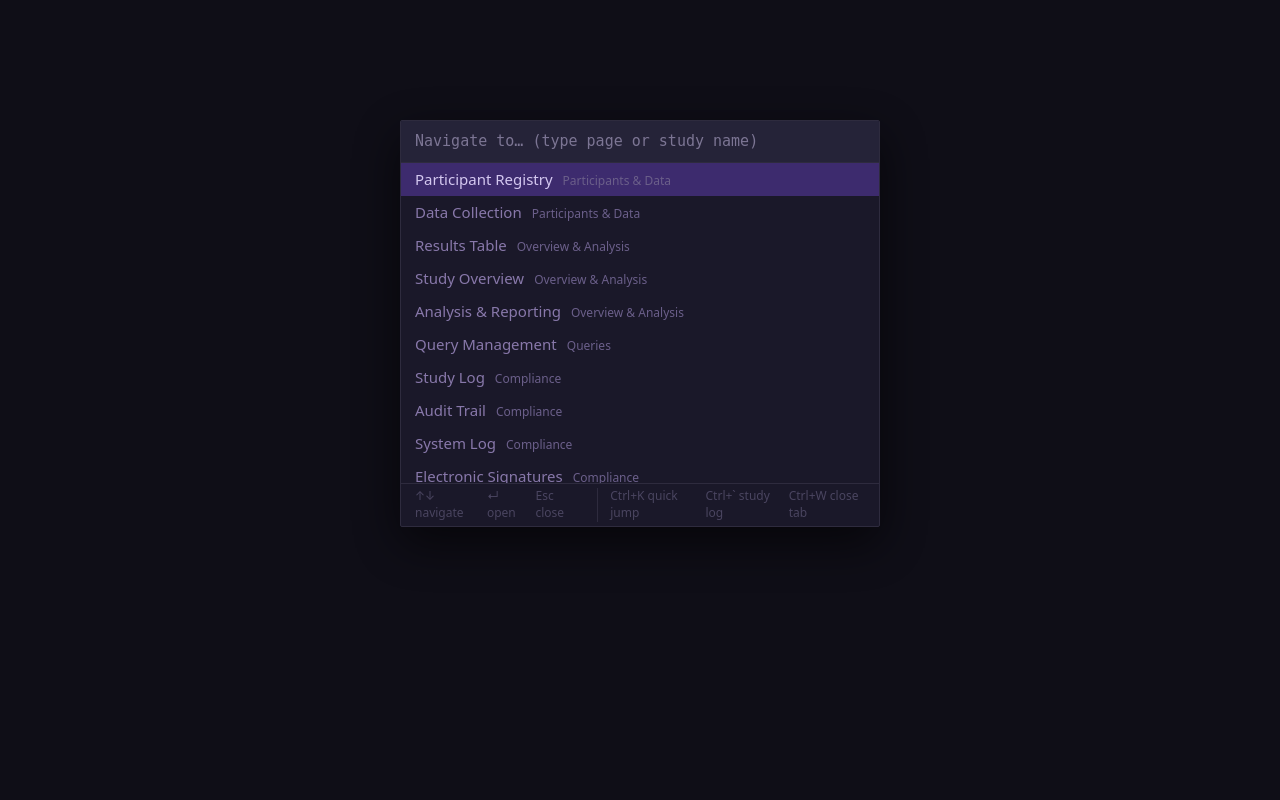
CommandPalette › shows "No results." for a query matching nothing
The width and height of the screenshot is (1280, 800).
Step 1. Type "zzzzzz" into the field with placeholder "Navigate to… (type page or study name)" → x=640, y=142, box [401,121,879,163]
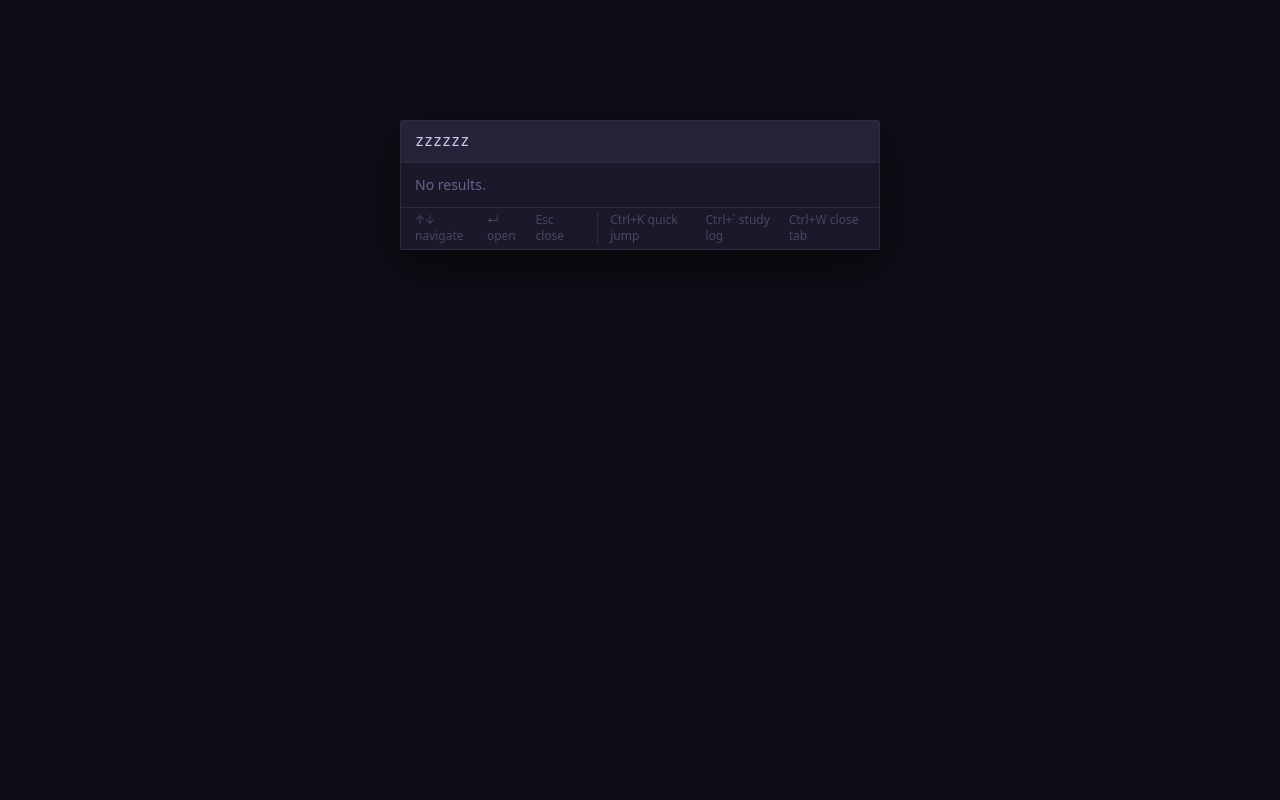
Expected: the text "No results." is shown, [415,175,486,194]
